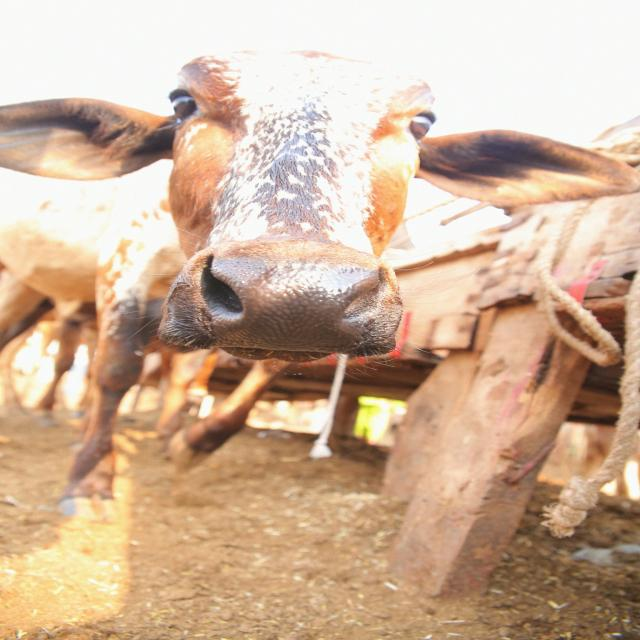muzzles: (186, 242, 393, 356)
